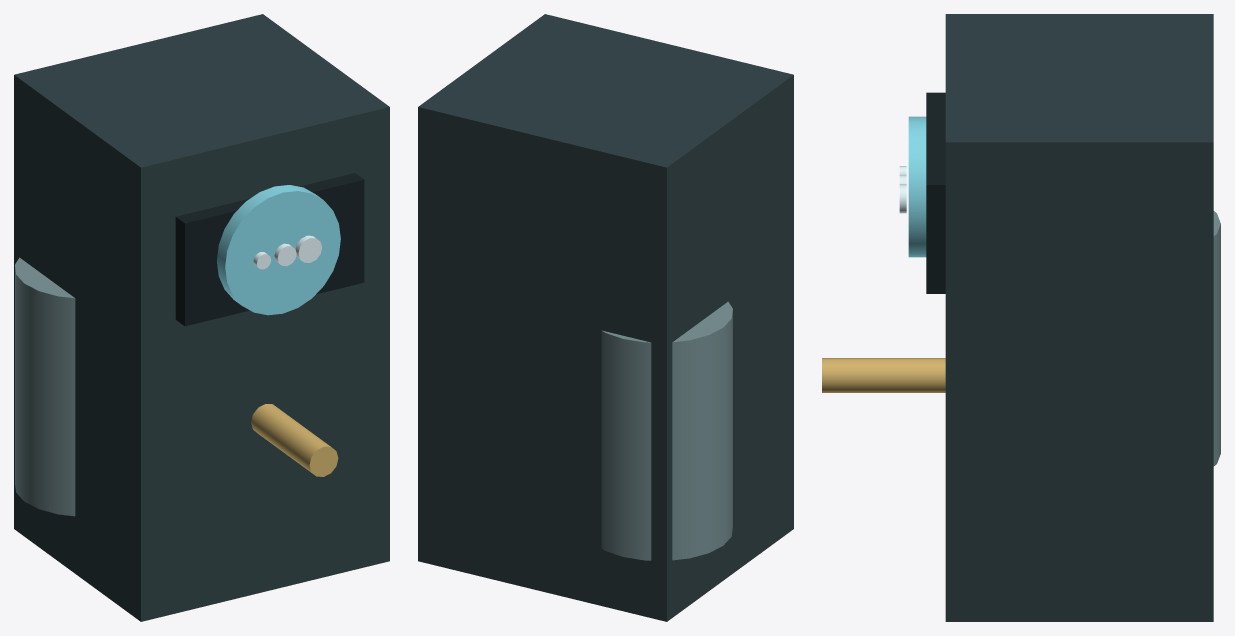
File: sparkling-machine.glb
3 renders of one model, left to right at view 1: azimuth 30°, elevation 25°; view 2: azimuth 150°, elevation 25°; view 3: azimuth 270°, elevation 25°, orthographic. The views are drawn at different scales.
Visible parts, largest first — view 1: Body, CO2Cylinder, BubbleGauge, ControlInset, CarbonationNozzle, Bubble; view 2: Body, CO2Cylinder; view 3: Body, CarbonationNozzle, ControlInset, BubbleGauge, CO2Cylinder.
Part boxes in pixels (x1,y1,x2,y2): Body: (14,14,389,621); CO2Cylinder: (15,257,75,516); BubbleGauge: (217,185,340,315); ControlInset: (175,173,364,326); CarbonationNozzle: (251,404,338,476); Bubble: (295,235,322,262); Body: (418,14,793,621); CO2Cylinder: (601,301,732,560); Body: (945,14,1213,621); CarbonationNozzle: (822,358,945,392); ControlInset: (926,92,945,293); BubbleGauge: (908,116,926,257); CO2Cylinder: (1213,211,1220,466).
Size of the model in its own units: 0.94 by 1.5 by 1.13.
